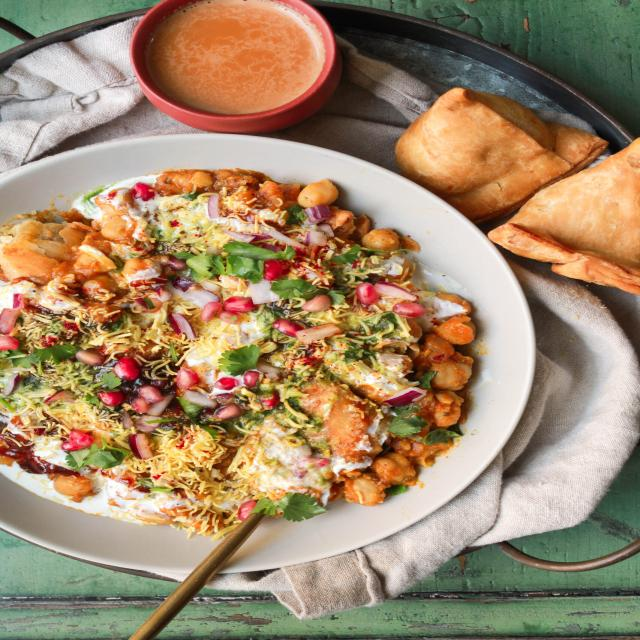SAMOSA: (395, 88, 607, 220), (488, 138, 640, 294)
